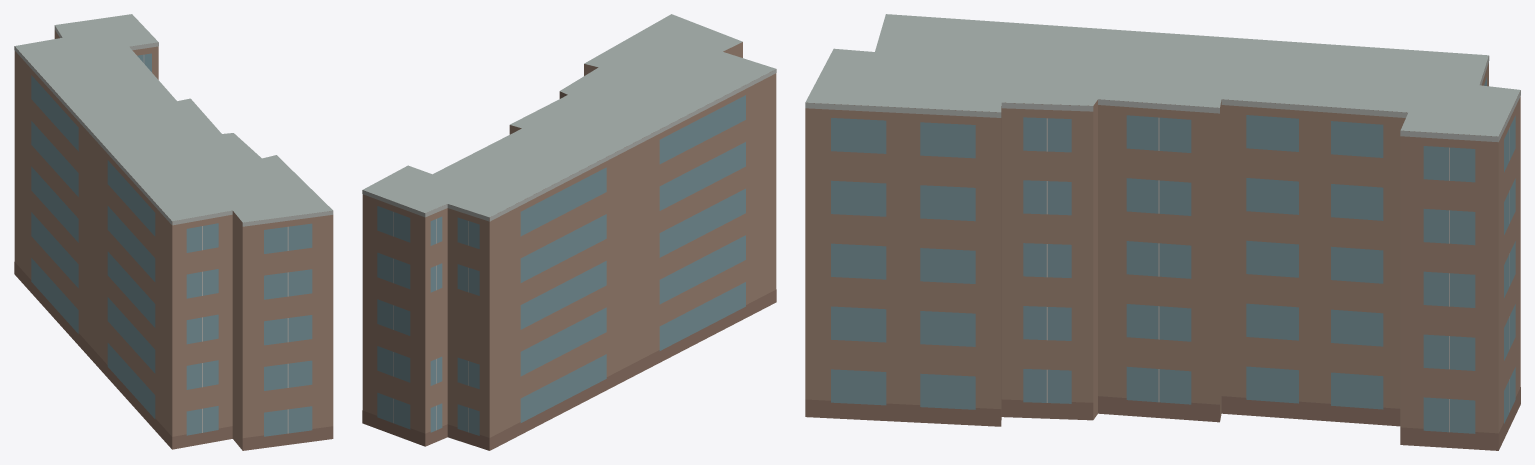
The model's file is survey-upis-32905989.glb.
3 renders of one model, left to right at view 1: azimuth 30°, elevation 25°; view 2: azimuth 150°, elevation 25°; view 3: azimuth 270°, elevation 25°, orthographic. The views are drawn at different scales.
Visible parts, largest first — view 1: survey-upis-32905989.tmp; view 2: survey-upis-32905989.tmp; view 3: survey-upis-32905989.tmp.
Part boxes in pixels (bbox=[...]): survey-upis-32905989.tmp: bbox=[14, 14, 333, 450]; survey-upis-32905989.tmp: bbox=[362, 14, 776, 450]; survey-upis-32905989.tmp: bbox=[805, 14, 1520, 450].
Size of the model in its own units: 11.29 by 13.5 by 27.86.
